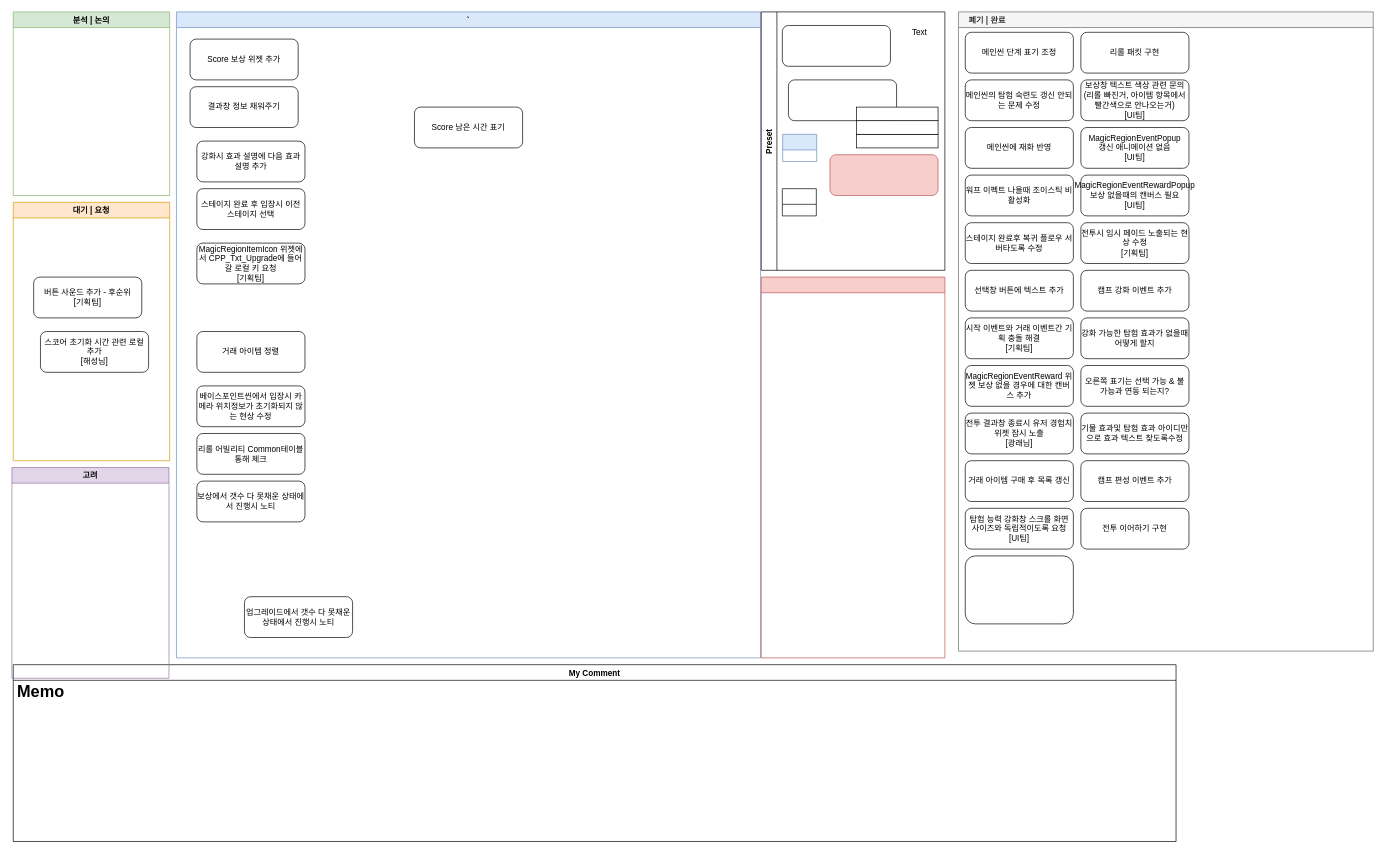
Some shapes in this 1385 by 853 pixel diagram are drawn without their labels. The centre of each missing label's shape, as x and y in pixels:
MagicRegionPlayScene 각 이벤트 탐험정보 확인 위젯 추가시 해당 위젯으로 돌아가는 위젯 추가 요청 [UI팀]: point (1019, 589)
에러 | 수정: point (853, 467)
